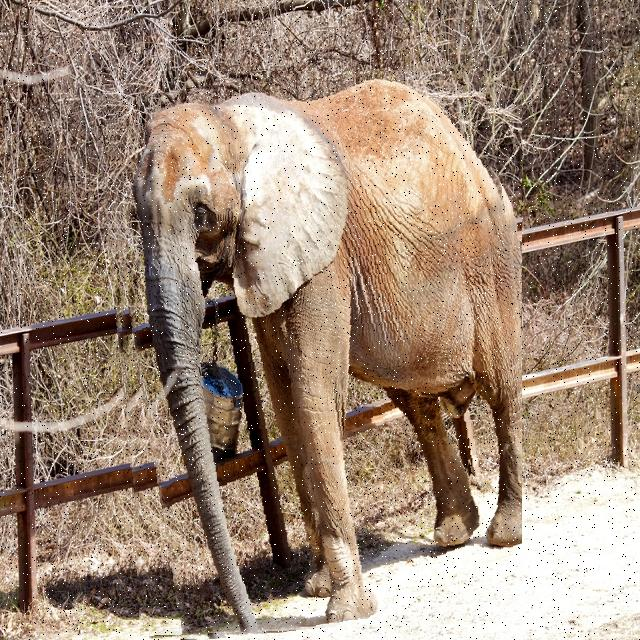elephant: (107, 71, 522, 636)
